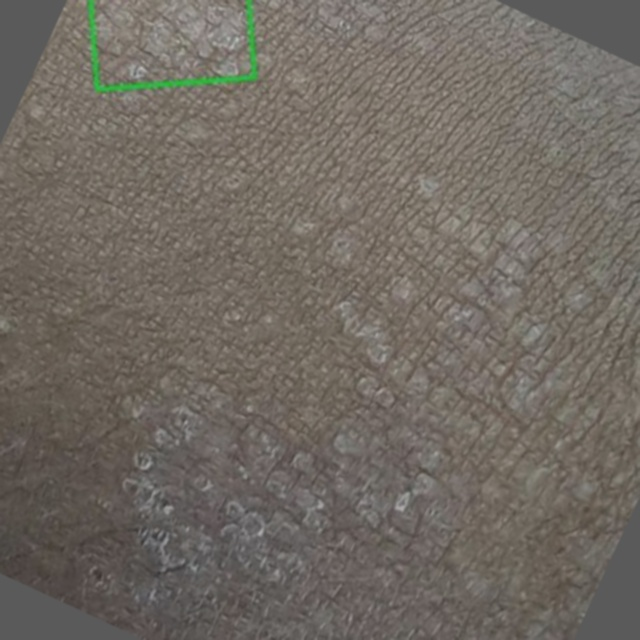Atopic Dermatitis: (90, 0, 253, 89)
